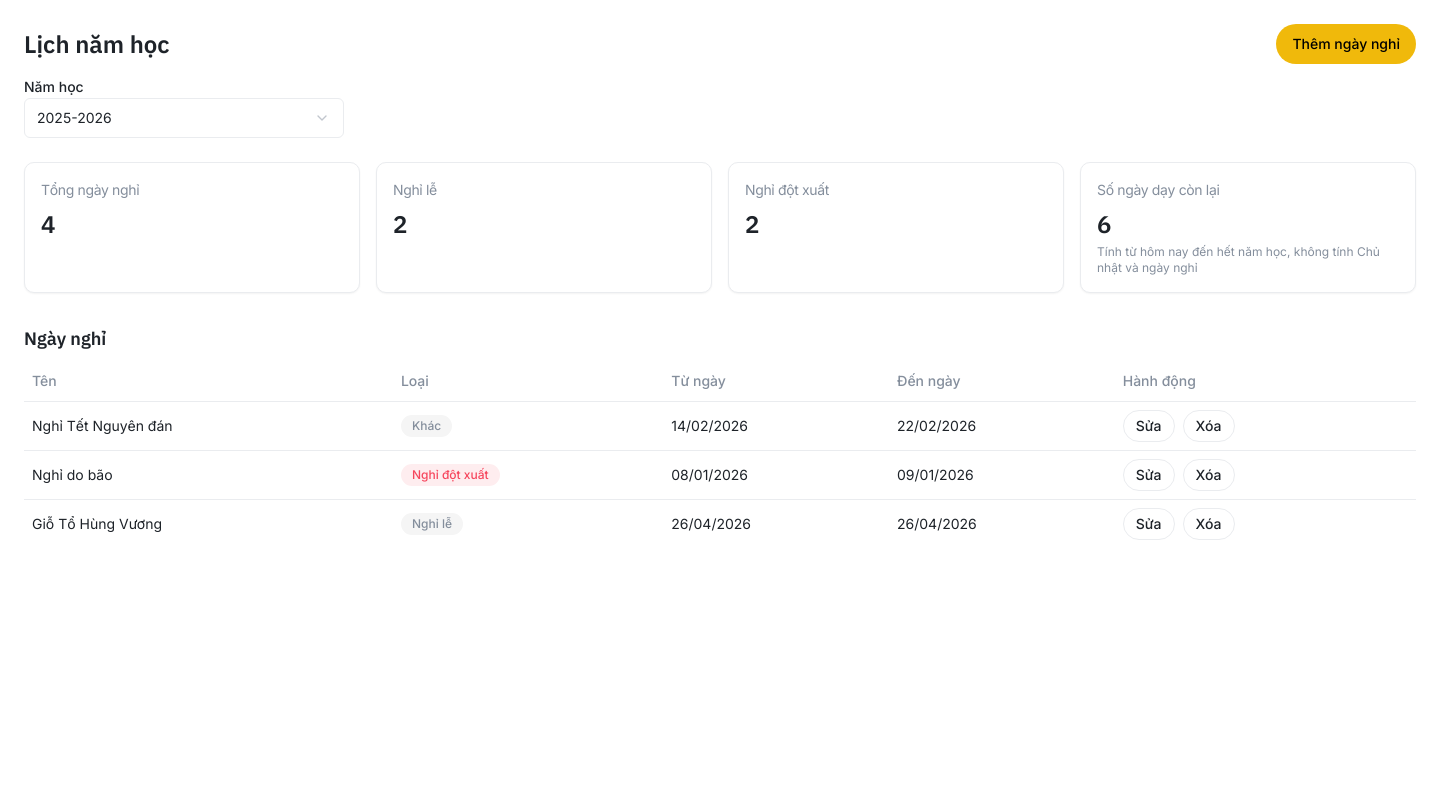
ADMIN thêm ngày nghỉ › mở dialog, nhập đủ rồi Lưu: createHoliday với đủ 5 trường của năm đang chọn, dialog đóng khi thành công
The image size is (1440, 810).
Click the button "Thêm ngày nghỉ" at x=1346, y=44, box [1276,24,1416,64]
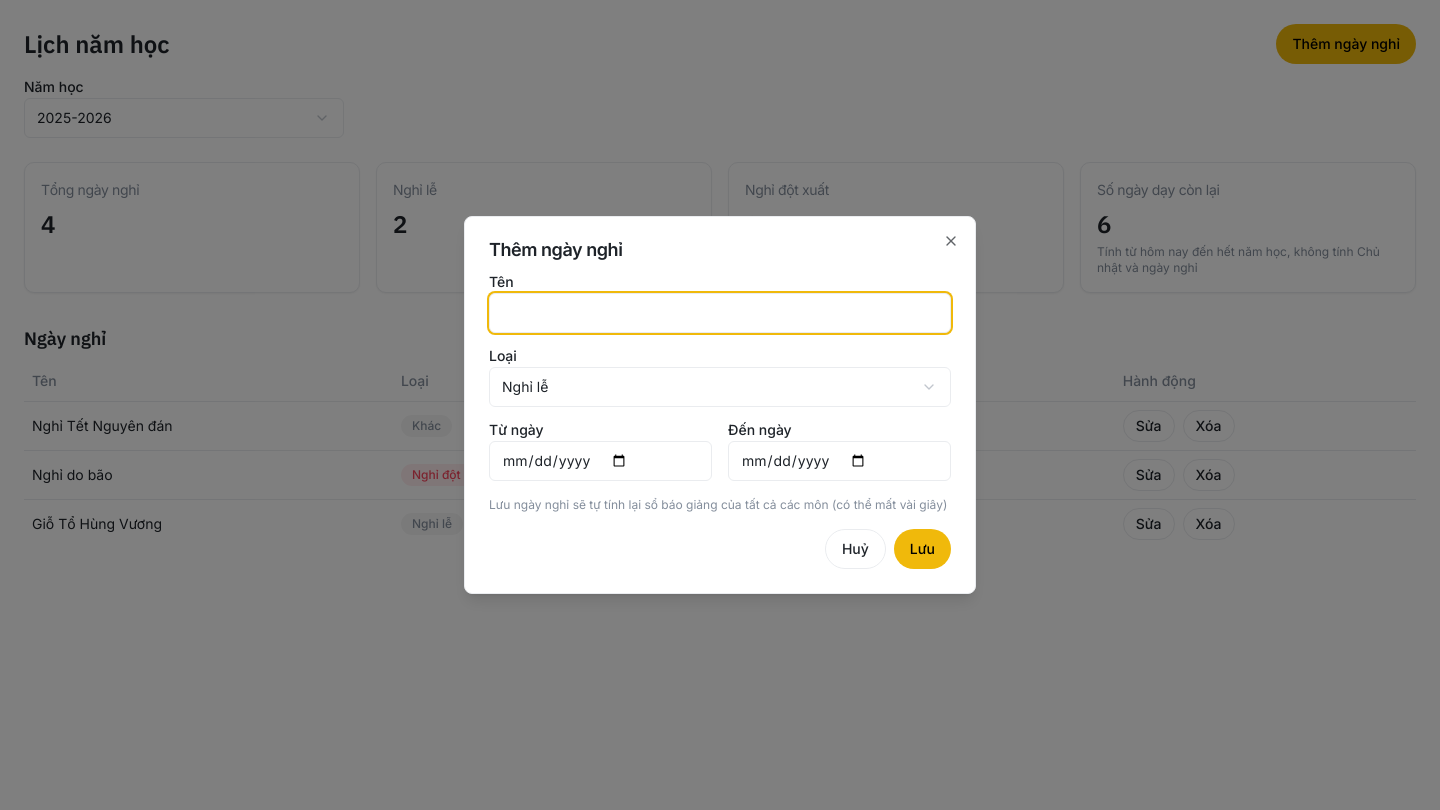
Type "Nghỉ lễ Quốc khánh" into the field labelled "Tên" at x=720, y=313, box [489,293,951,333]
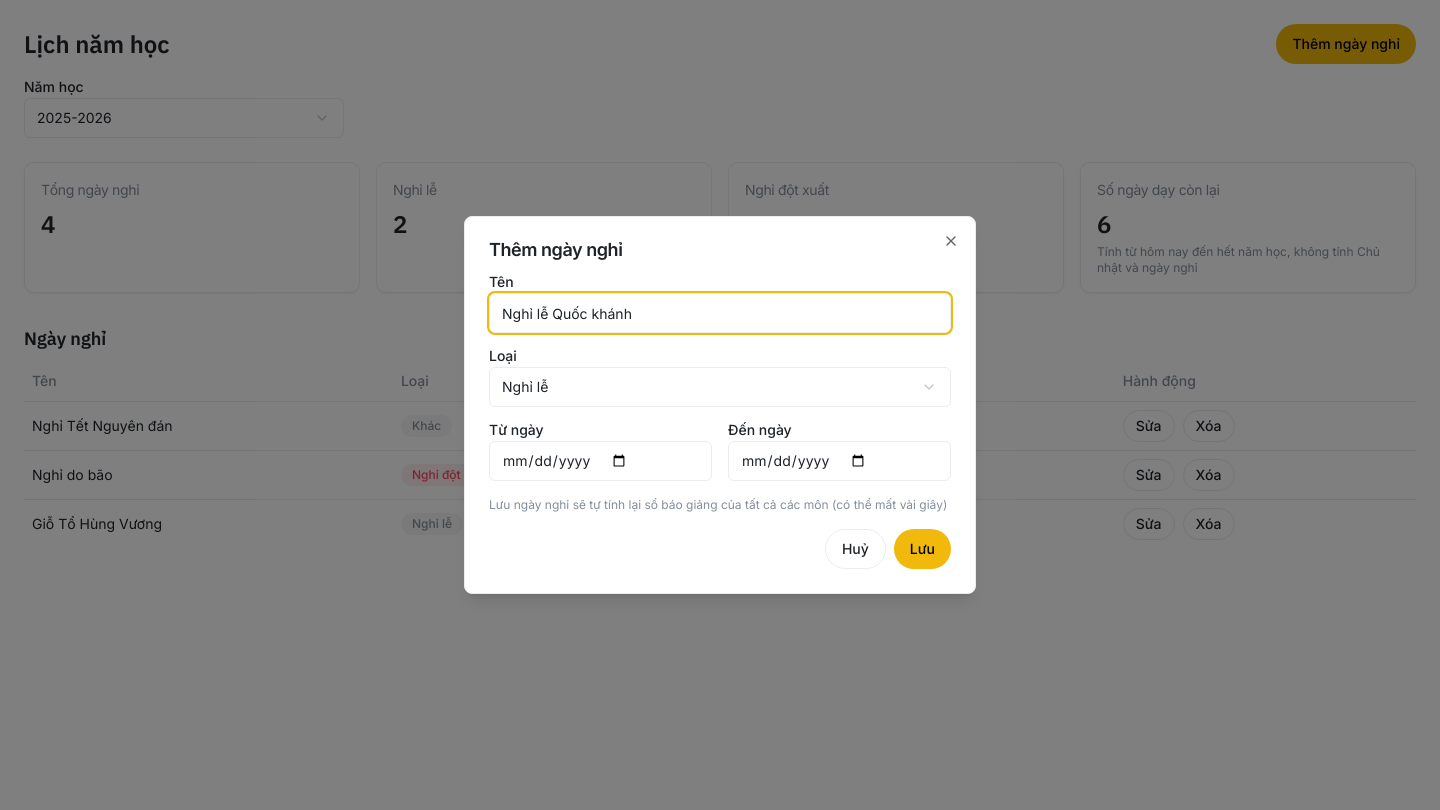
Select "Nghỉ lễ" in the dropdown labelled "Loại" at x=720, y=387, box [489,367,951,407]
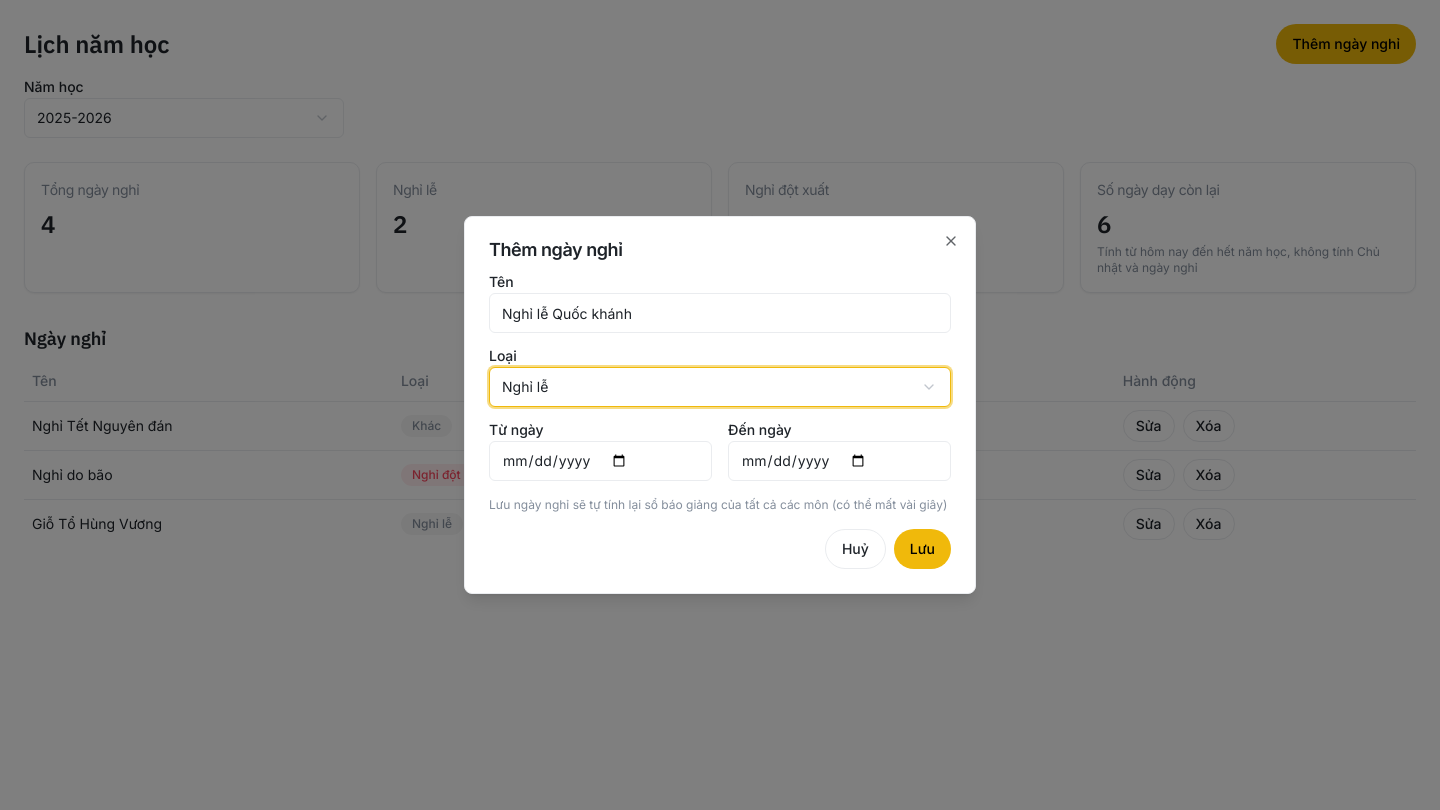
Type "2026-09-02" into the date field labelled "Từ ngày" at x=600, y=461, box [489,441,712,481]
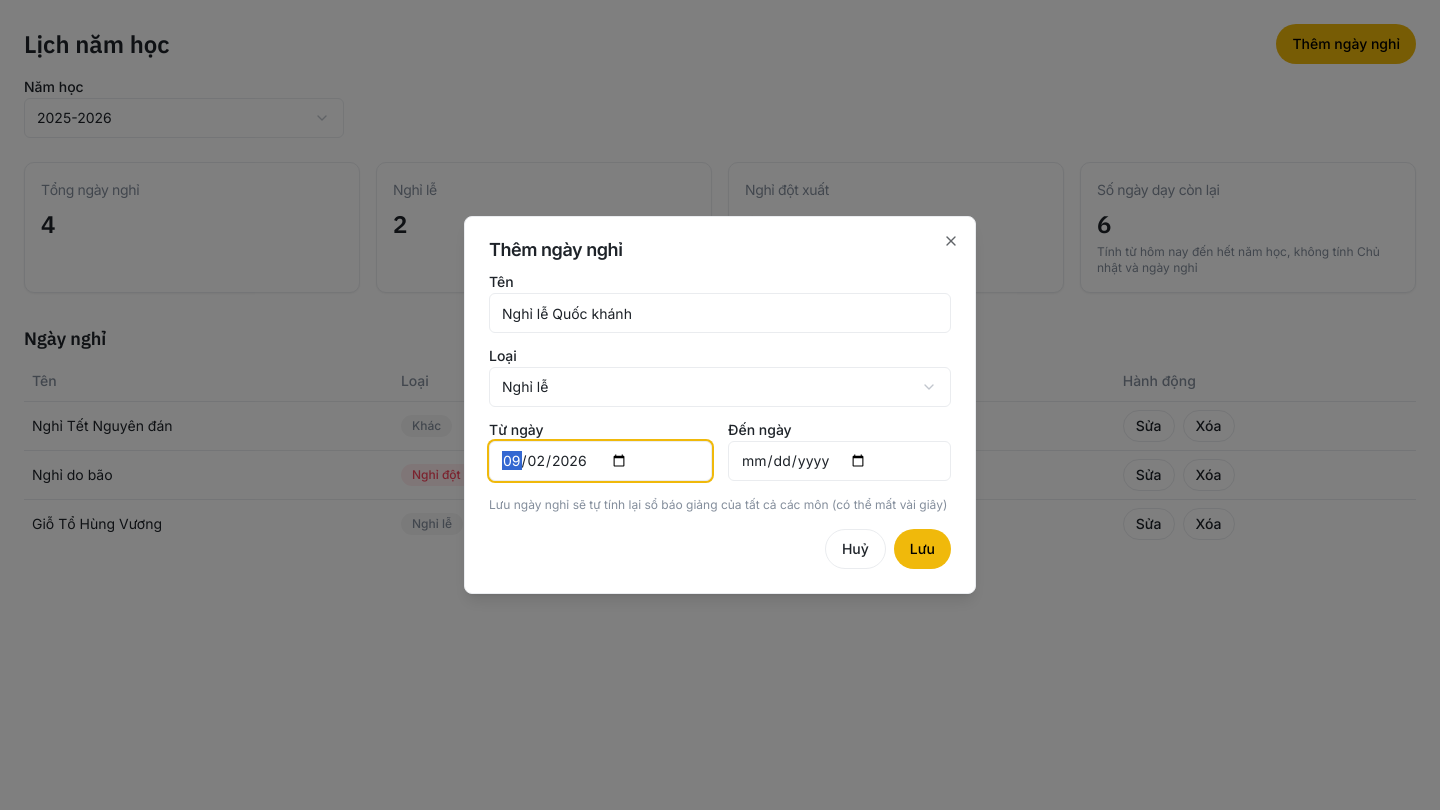
Type "2026-09-02" into the date field labelled "Đến ngày" at x=840, y=461, box [728,441,951,481]
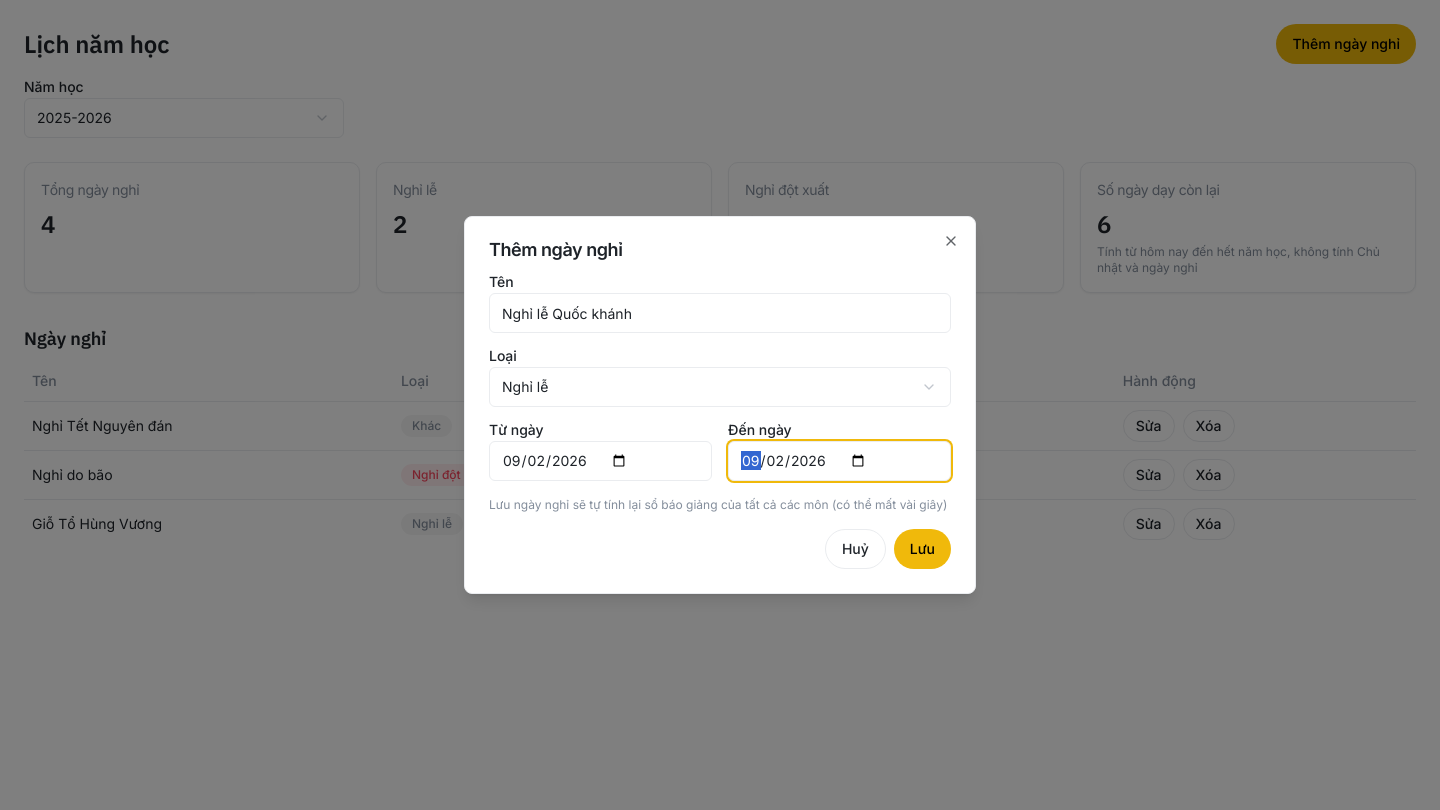
Click the button "Lưu" at x=922, y=549, box [894,529,951,569]
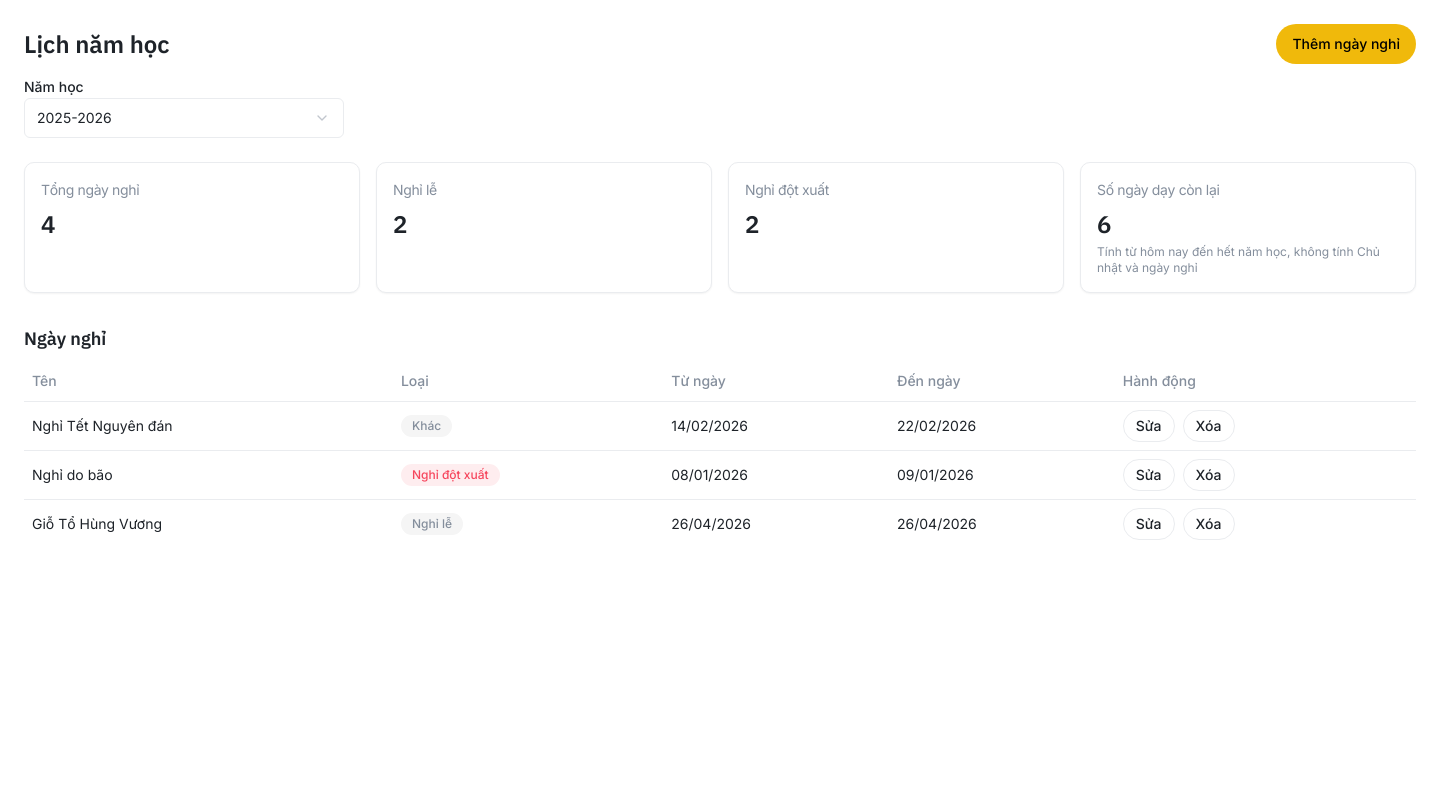
Check: the dialog is gone
